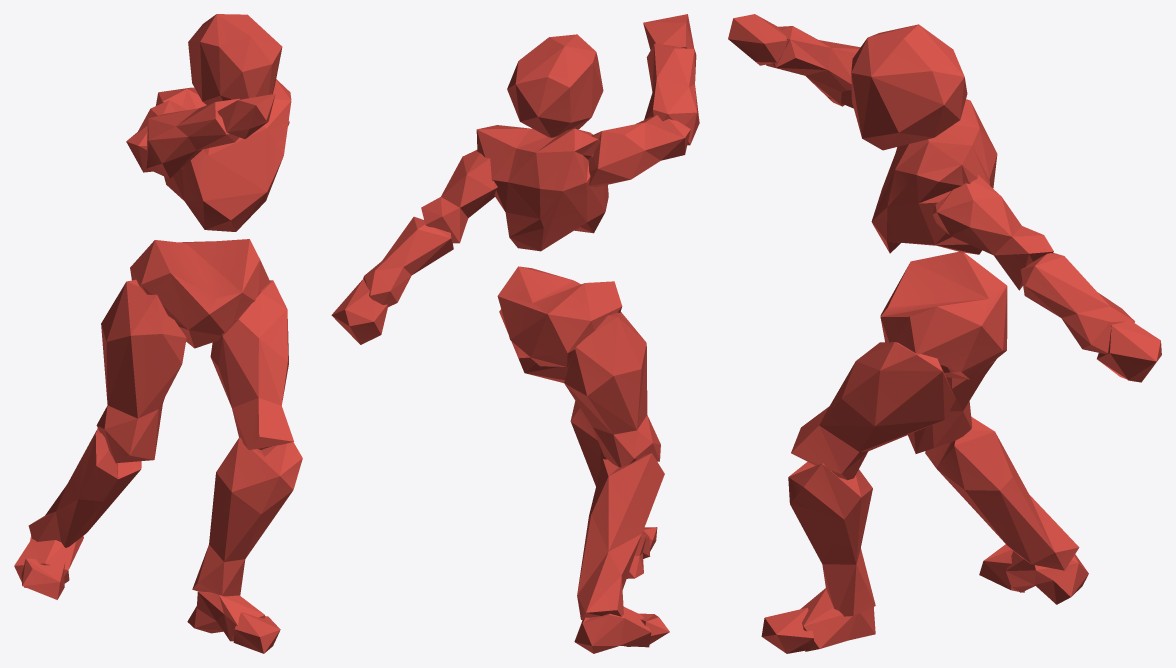
File: 2dancer0171.obj
The picture shows the model from 3 angles, left to right: view 1: azimuth 30°, elevation 25°; view 2: azimuth 150°, elevation 25°; view 3: azimuth 270°, elevation 25°; orthographic projection. The views are drawn at different scales.
Parts seen in each view (by area): view 1: Beta_Surface; view 2: Beta_Surface; view 3: Beta_Surface.
Part boxes in pixels (<box>): Beta_Surface: <box>14,14,302,653</box>; Beta_Surface: <box>331,14,699,653</box>; Beta_Surface: <box>728,14,1161,653</box>.
Bounding box in the file's own units: 0.9132 × 1.74 × 1.08.
